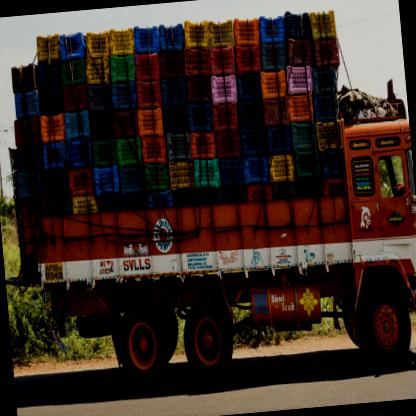truck: (1, 3, 415, 404)
